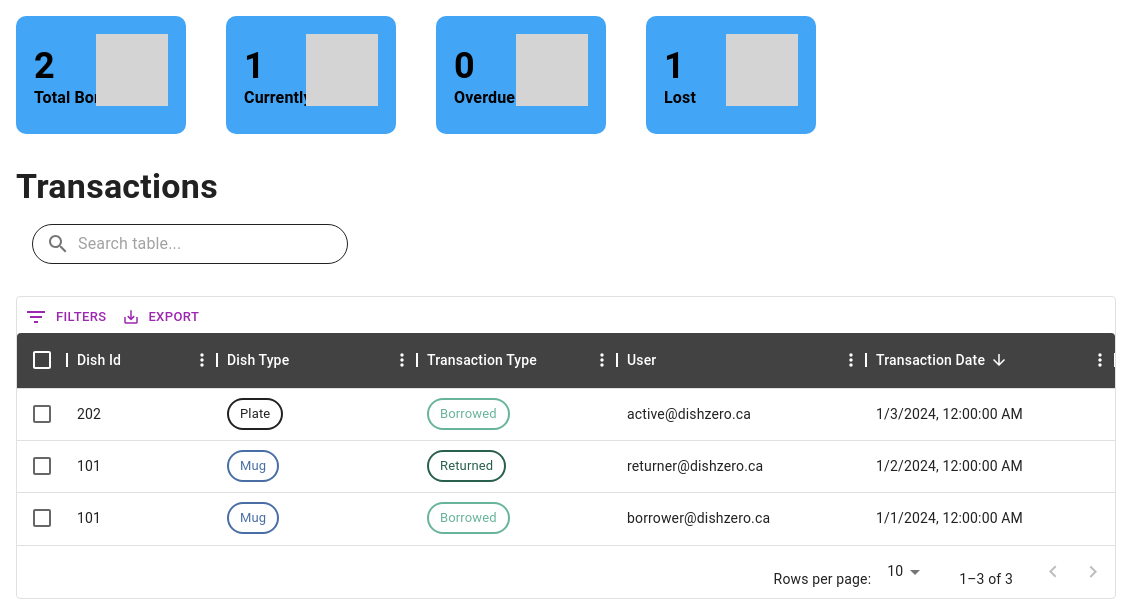
Test case: filters visible transactions from the search box
Expected: the text "borrower@dishzero.ca" is shown, top-left (627, 508), bottom-right (770, 528)
In the field with placeholder "Search table...": (188, 244) top-left (78, 224), bottom-right (298, 264), type "active@dishzero.ca"
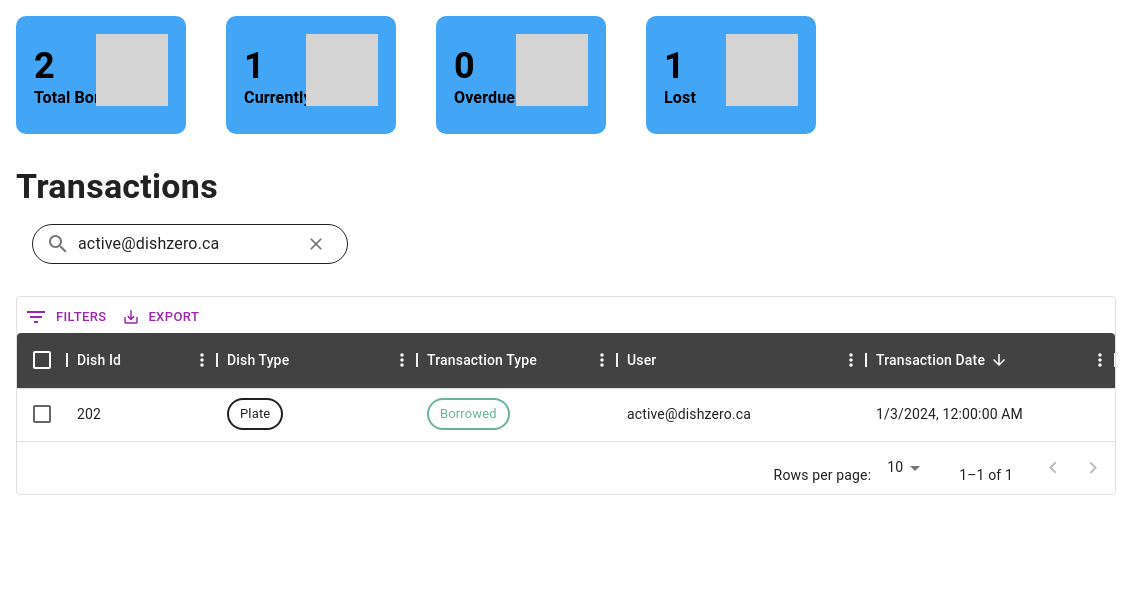
Expected: the text "active@dishzero.ca" is shown, top-left (627, 404), bottom-right (751, 424)
Now the text "borrower@dishzero.ca" is gone
Now the text "returner@dishzero.ca" is gone
